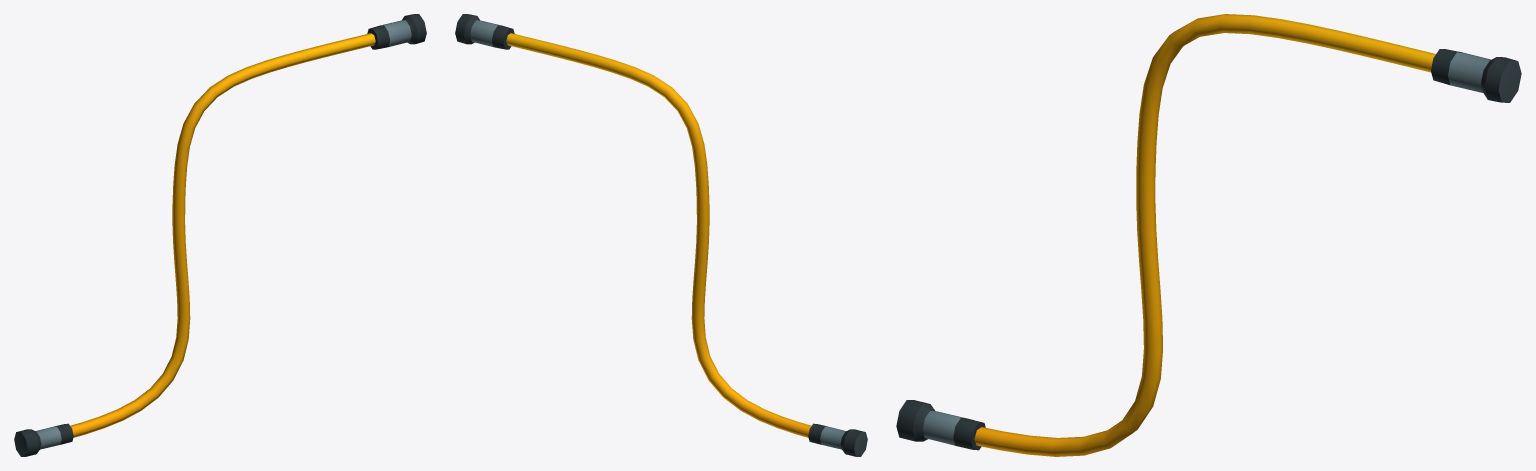
The model's file is Cable_type_C_006.fbx.
3 renders of one model, left to right at view 1: azimuth 30°, elevation 25°; view 2: azimuth 150°, elevation 25°; view 3: azimuth 330°, elevation 25°, orthographic. The views are drawn at different scales.
Visible parts, largest first — view 1: Cable_type_C_006; view 2: Cable_type_C_006; view 3: Cable_type_C_006.
Part boxes in pixels (bbox=[...]): Cable_type_C_006: bbox=[14, 14, 426, 456]; Cable_type_C_006: bbox=[455, 14, 867, 456]; Cable_type_C_006: bbox=[896, 14, 1521, 456].
Size of the model in its own units: 131 by 8.91 by 108.
